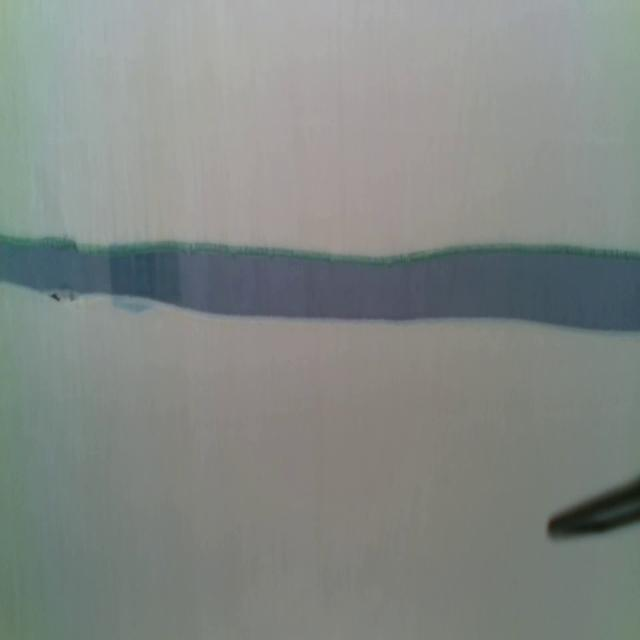color bleeding: (0, 230, 640, 346)
